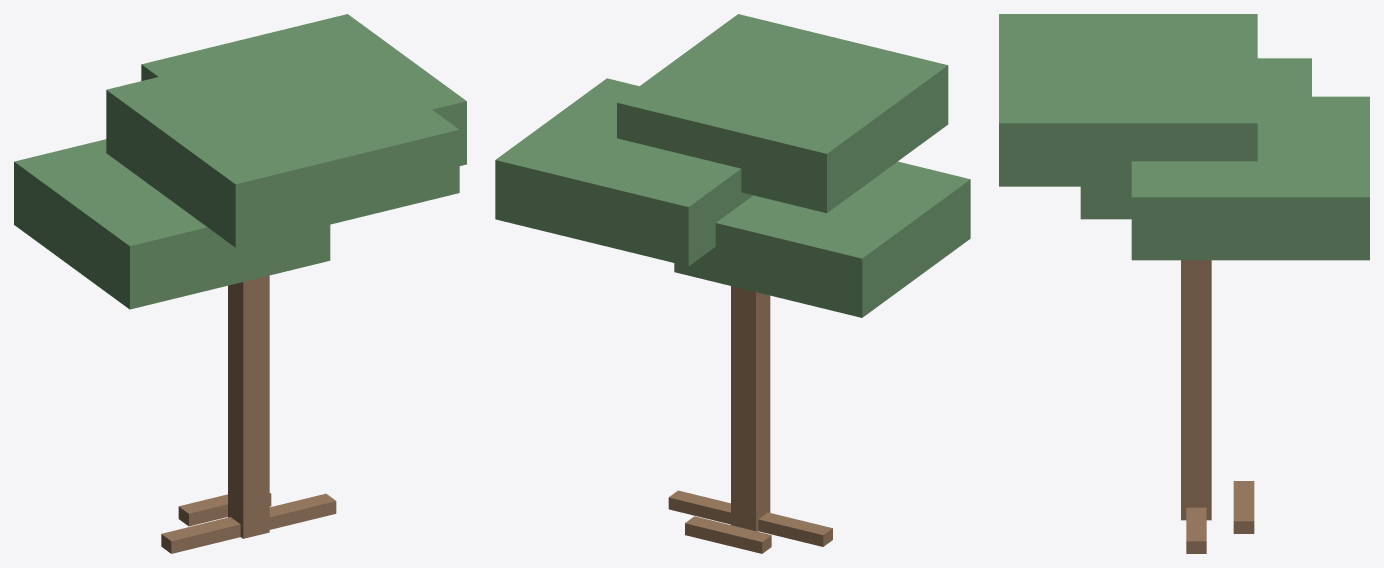
File: forest-1.glb
The picture shows the model from 3 angles, left to right: view 1: azimuth 30°, elevation 25°; view 2: azimuth 150°, elevation 25°; view 3: azimuth 270°, elevation 25°; orthographic projection. The views are drawn at different scales.
Bounding box in the file's own units: 17.53 × 20.57 × 15.53.
